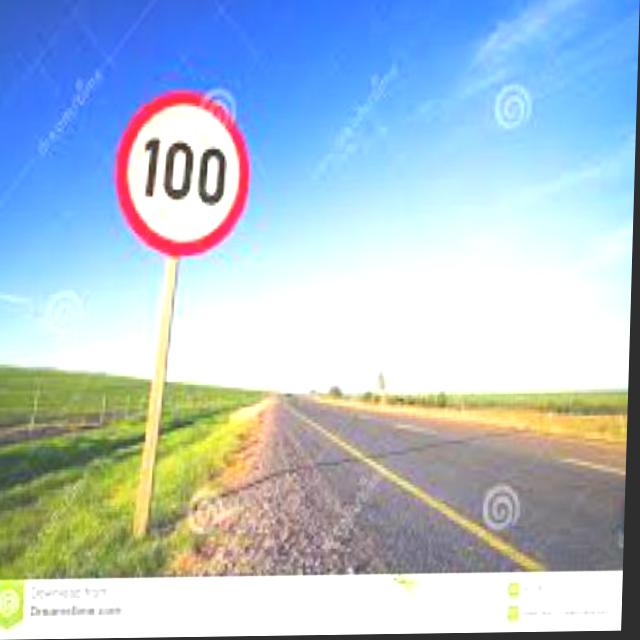limit100: (112, 87, 257, 266)
